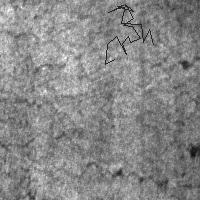crazing: (2, 16, 94, 91), (41, 139, 169, 188), (5, 52, 46, 198), (105, 4, 153, 64)
